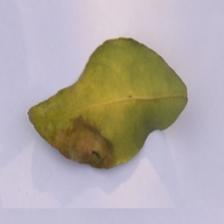black spot: (51, 114, 120, 174)
